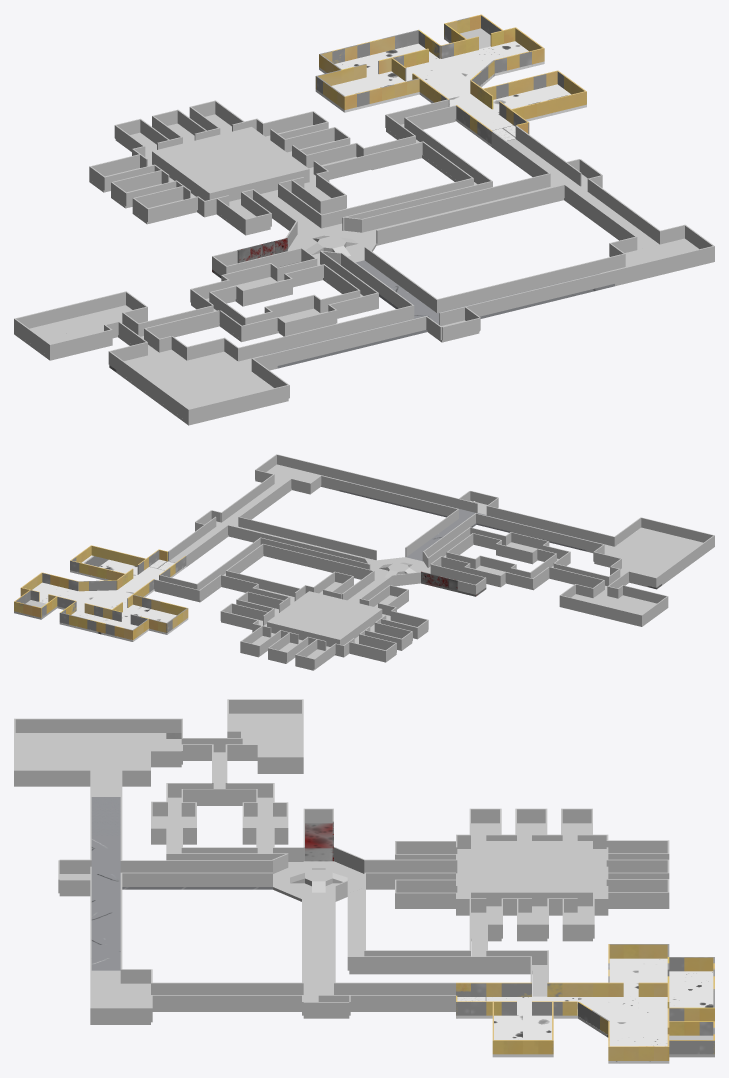
File: Revised map blockoutV6.1.fbx
The picture shows the model from 3 angles, top to bottom: view 1: azimuth 30°, elevation 25°; view 2: azimuth 150°, elevation 25°; view 3: azimuth 270°, elevation 25°; orthographic projection. The views are drawn at different scales.
Parts seen in each view (by area): view 1: Living quarters walls, Office Walls, Pathway Down Walls, Office Floor, Walls.019, Living quarters Room.008, Walls.003, Pathway Right, Pathway Down Walls.001, Pathway Down Walls.002, Pathway Down, Walls (+10 smaller); view 2: Living quarters walls, Office Walls, Pathway Down Walls, Office Floor, Walls.019, Walls.003, Living quarters Room.008, Pathway Down Walls.001, Pathway Right, Pathway Down Walls.002, Pathway Down, Walls (+10 smaller); view 3: Living quarters walls, Office Walls, Office Floor, Walls.003, Pathway Down, Pathway Down Walls, Pathway Right, Living quarters Room.008, Center Platform, Living quarters Room.006, Pathway Up walls, Object (+8 smaller).
Boxes of the visible parts, x1,y1,x2,y2 form: Living quarters walls: (89, 100, 364, 232); Office Walls: (315, 14, 544, 144); Pathway Down Walls: (238, 247, 614, 371); Office Floor: (315, 41, 544, 146); Walls.019: (362, 173, 564, 243); Living quarters Room.008: (152, 139, 259, 201); Walls.003: (491, 125, 660, 250); Pathway Right: (362, 139, 659, 249); Pathway Down Walls.001: (237, 305, 412, 360); Pathway Down Walls.002: (437, 259, 600, 312); Pathway Down: (263, 260, 614, 368); Walls: (600, 225, 714, 283); Living quarters walls: (220, 571, 428, 668); Office Walls: (14, 549, 188, 639); Pathway Down Walls: (349, 472, 615, 561); Office Floor: (32, 559, 188, 641); Walls.019: (228, 517, 376, 562); Walls.003: (168, 474, 291, 565); Living quarters Room.008: (303, 600, 382, 646); Pathway Down Walls.001: (476, 513, 604, 553); Pathway Right: (169, 484, 375, 566); Pathway Down Walls.002: (338, 480, 457, 516); Pathway Down: (339, 482, 595, 561); Walls: (256, 454, 349, 489); Living quarters walls: (395, 808, 669, 938); Office Walls: (456, 944, 714, 1060); Office Floor: (456, 958, 713, 1063); Walls.003: (151, 982, 455, 1009); Pathway Down: (91, 797, 272, 970); Pathway Down Walls: (90, 770, 272, 956); Pathway Right: (152, 900, 455, 1011); Living quarters Room.008: (471, 841, 592, 866); Center Platform: (272, 847, 364, 901); Living quarters Room.006: (471, 879, 592, 906); Pathway Up walls: (364, 859, 455, 886); Object: (90, 970, 150, 1024).
Bounding box in the file's own units: 54002 × 1267 × 46002.
